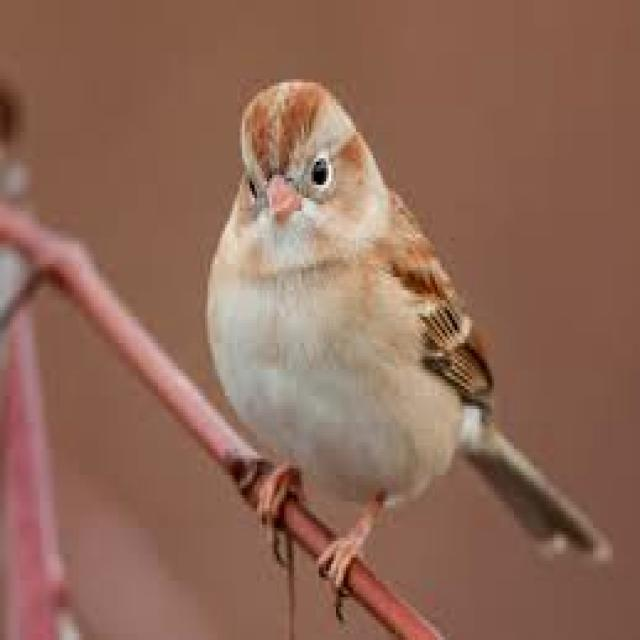sparrow: (205, 79, 608, 591)
